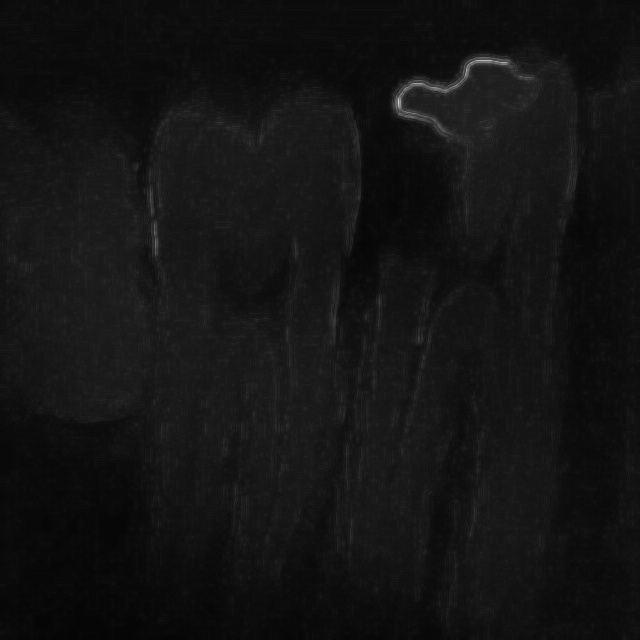cavity: (349, 40, 599, 632)
